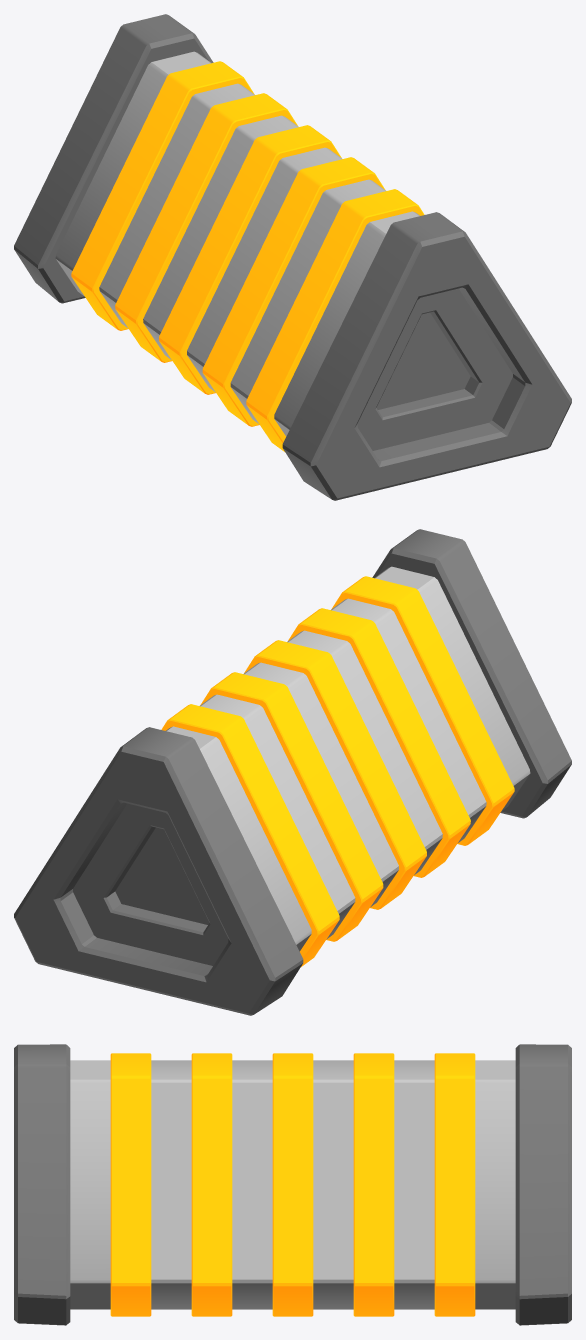
Rendered from Log_Pickup.fbx.
3 renders of one model, top to bottom at view 1: azimuth 30°, elevation 25°; view 2: azimuth 150°, elevation 25°; view 3: azimuth 270°, elevation 25°, orthographic. The views are drawn at different scales.
Parts seen in each view (by area): view 1: Log_Pickup; view 2: Log_Pickup; view 3: Log_Pickup.
Boxes of the visible parts, x1,y1,x2,y2 form: Log_Pickup: (14,14,571,500); Log_Pickup: (14,529,571,1015); Log_Pickup: (14,1044,571,1325).
Bounding box in the file's own units: 0.366 × 0.7188 × 0.316.
